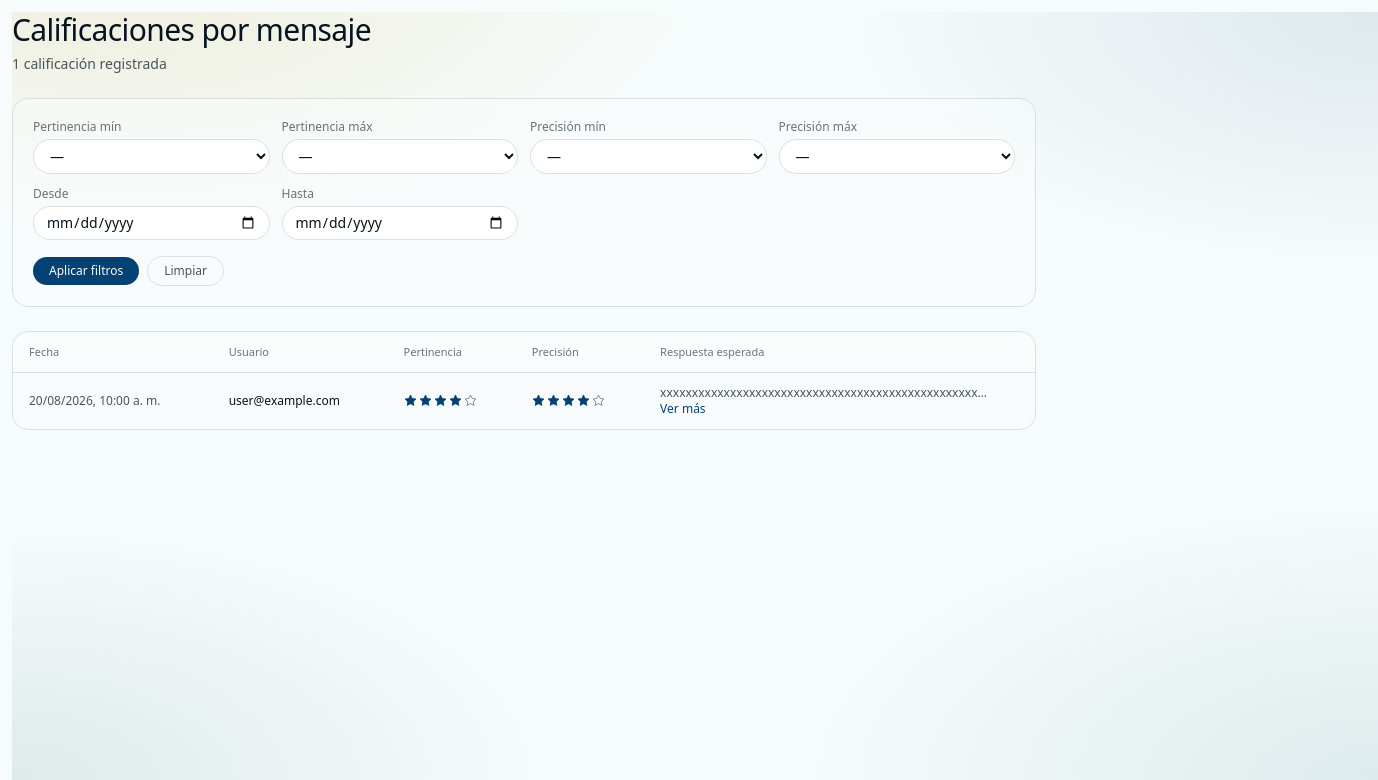
Test: MessageFeedbackPage — filtros administrativos (A3) › preserva el expandir/contraer de la respuesta esperada (sin relación con los filtros)
The image size is (1378, 780).
Expected: the text "user@example.com" is shown, top-left (229, 392), bottom-right (340, 409)
Click the button "Ver más": (683, 409) top-left (660, 401), bottom-right (706, 417)
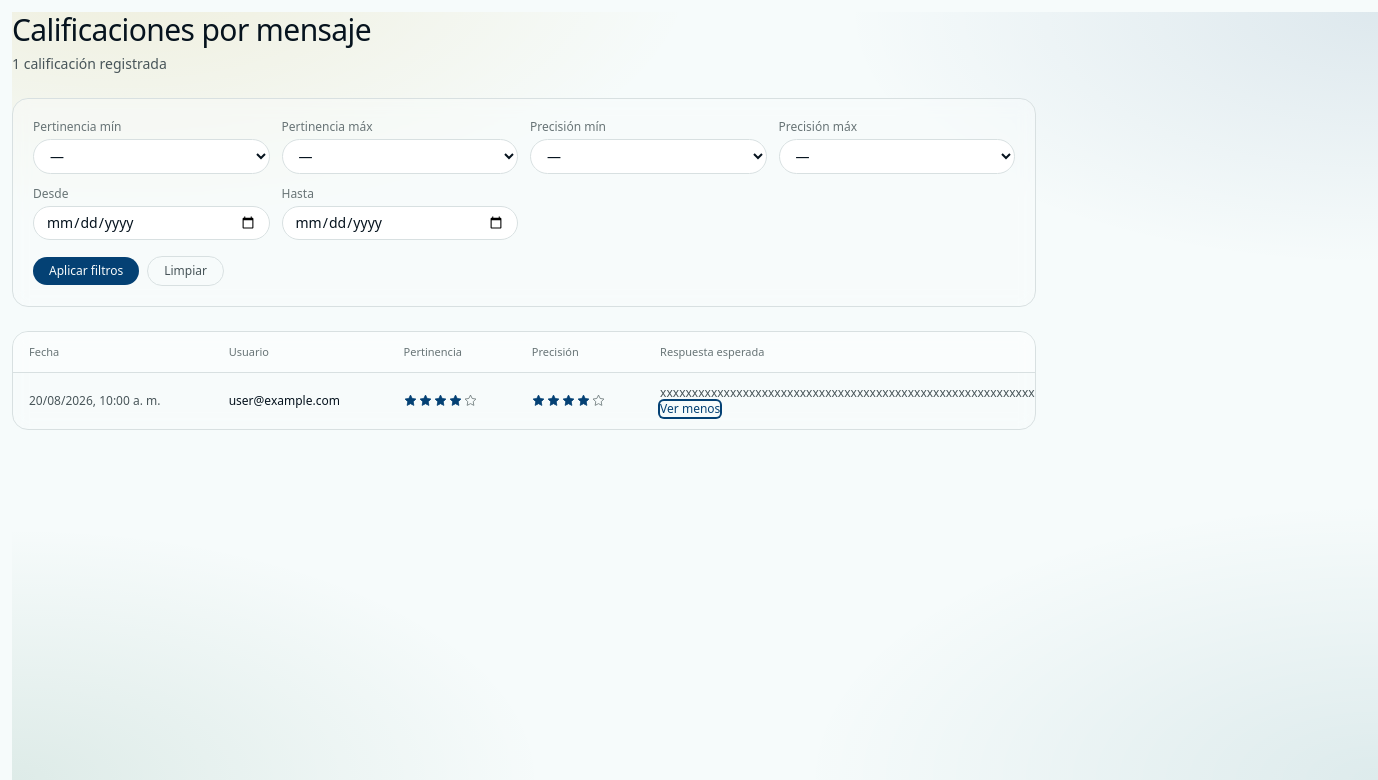
Click the button "Ver menos": (690, 409) top-left (660, 401), bottom-right (720, 417)
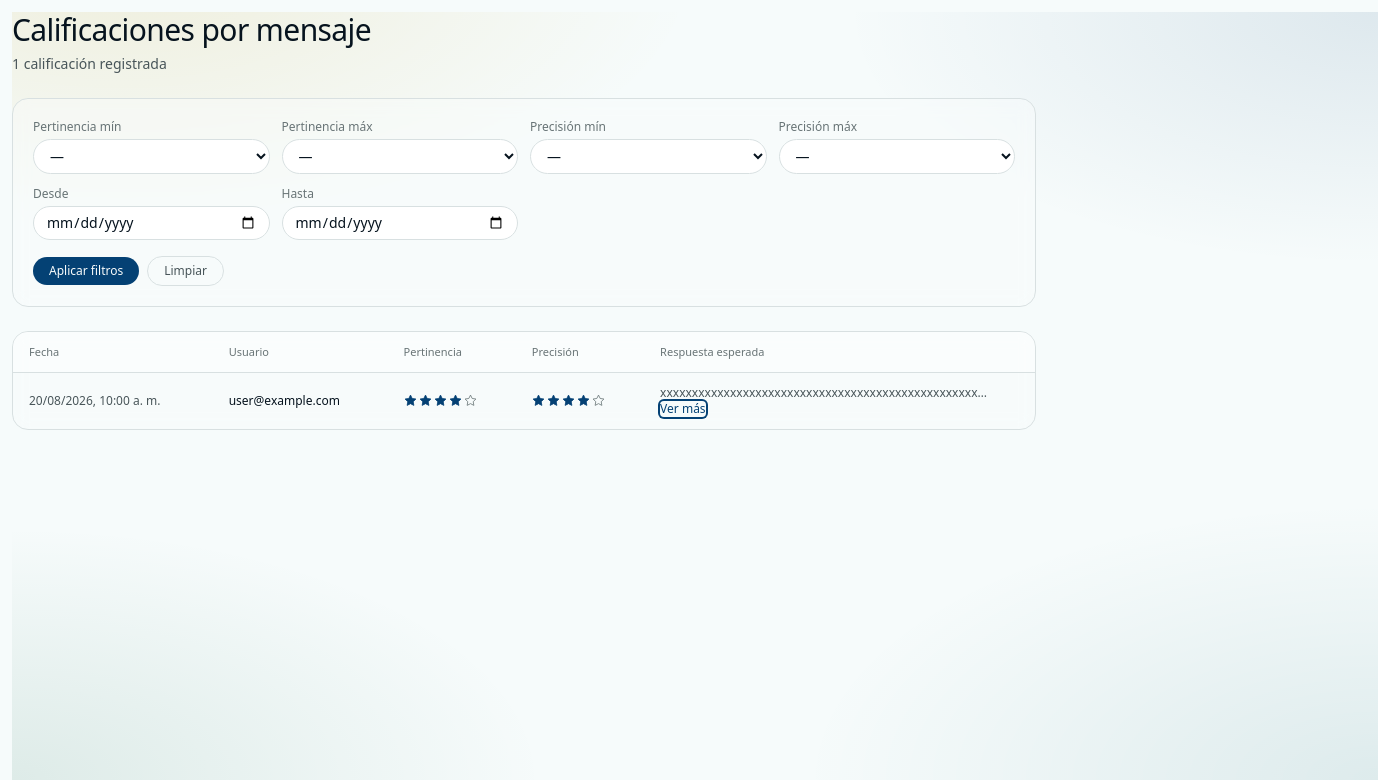
Now the button "Ver más" is shown, box top-left (660, 401), bottom-right (706, 417)
